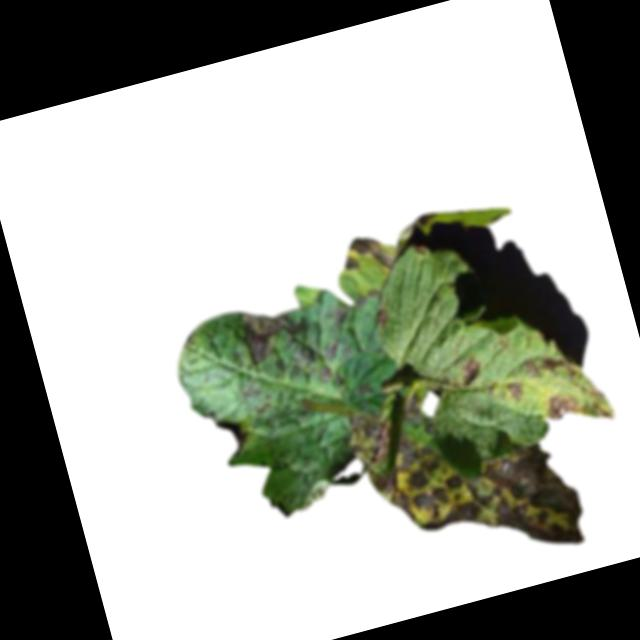Early_blight: (348, 366, 591, 592), (235, 294, 318, 375), (337, 229, 399, 282), (521, 343, 576, 384), (214, 411, 252, 460), (541, 390, 578, 422), (456, 355, 485, 385), (371, 304, 393, 329), (506, 380, 525, 402), (321, 338, 340, 360), (317, 364, 333, 384)
